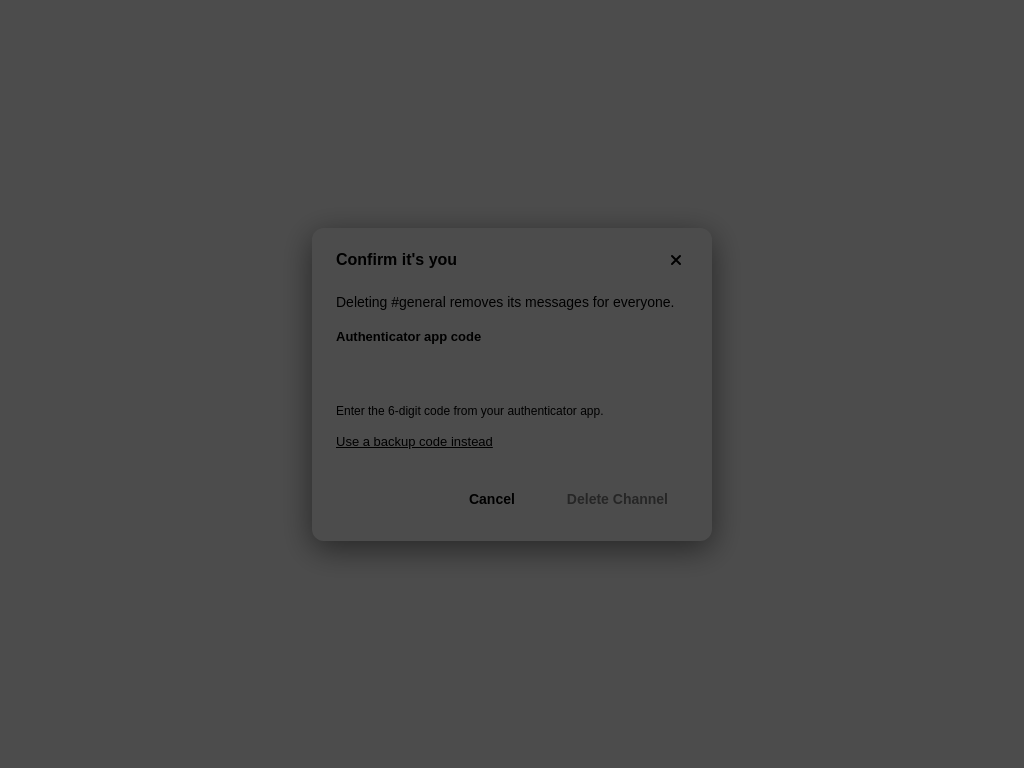
it: a code that passes › sends nothing while the code is empty, and says what is missing
Click the button "Delete Channel" at x=617, y=498, box [547,480,688,516]
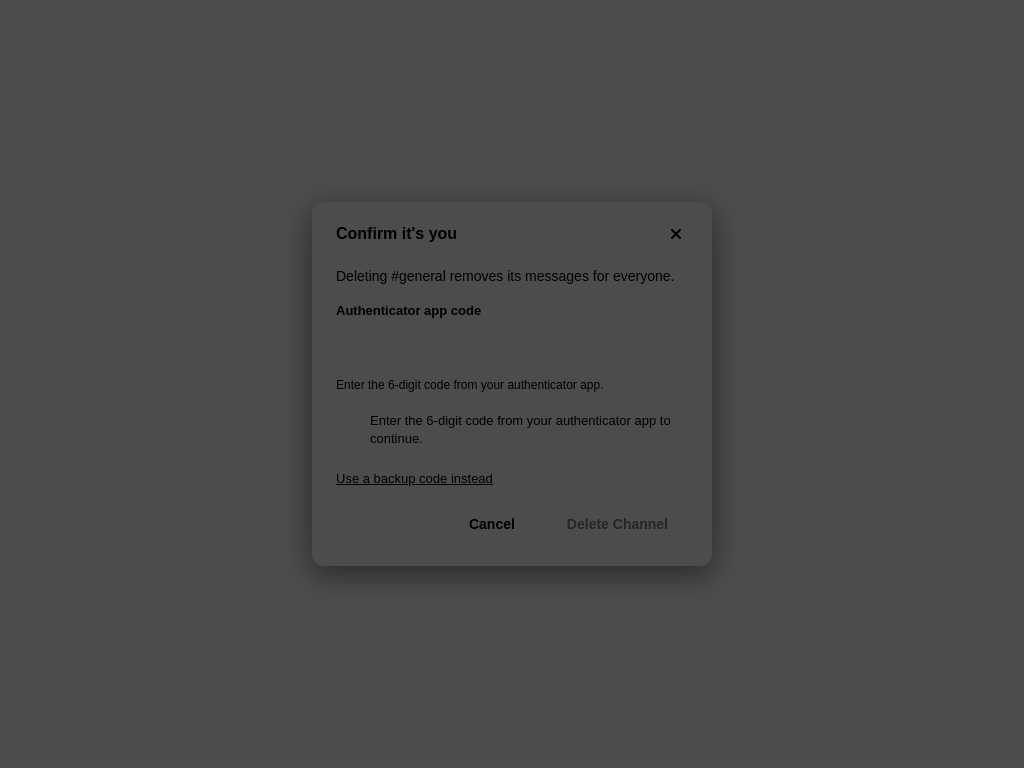
Check: the text "Enter the 6-digit code from your authenticator app to continue." is shown, box [370,412,678,448]
